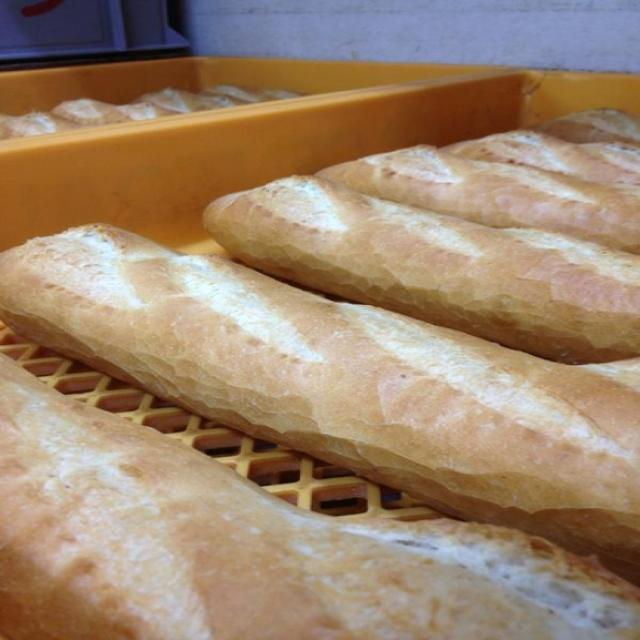Bread: (0, 87, 635, 640)
